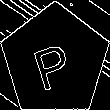P_N: (31, 31, 79, 90)
